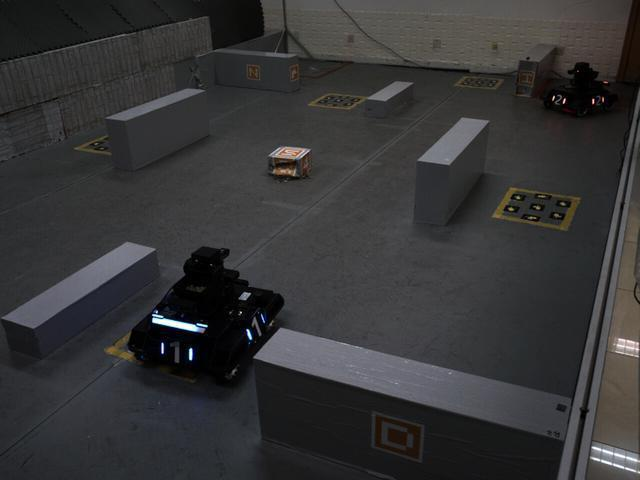armor: (156, 334, 201, 371), (240, 308, 272, 349), (549, 88, 570, 112), (589, 90, 606, 109)
